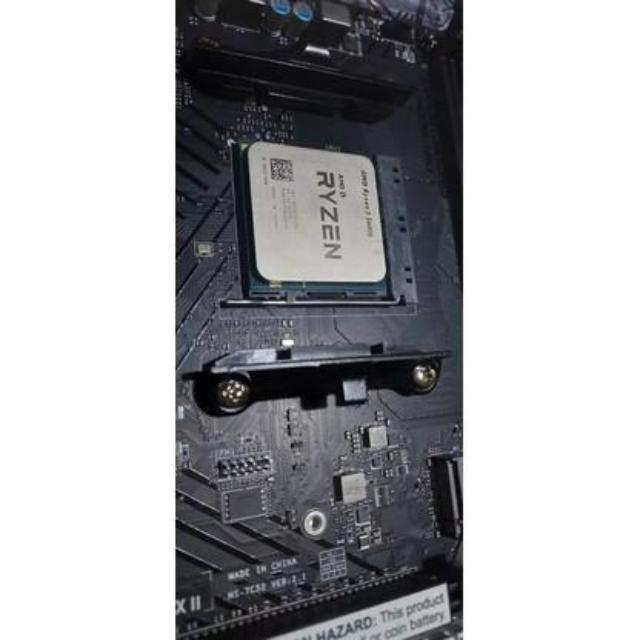CPU: (242, 138, 391, 298)
